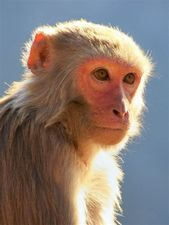monkey: (17, 8, 152, 217)
